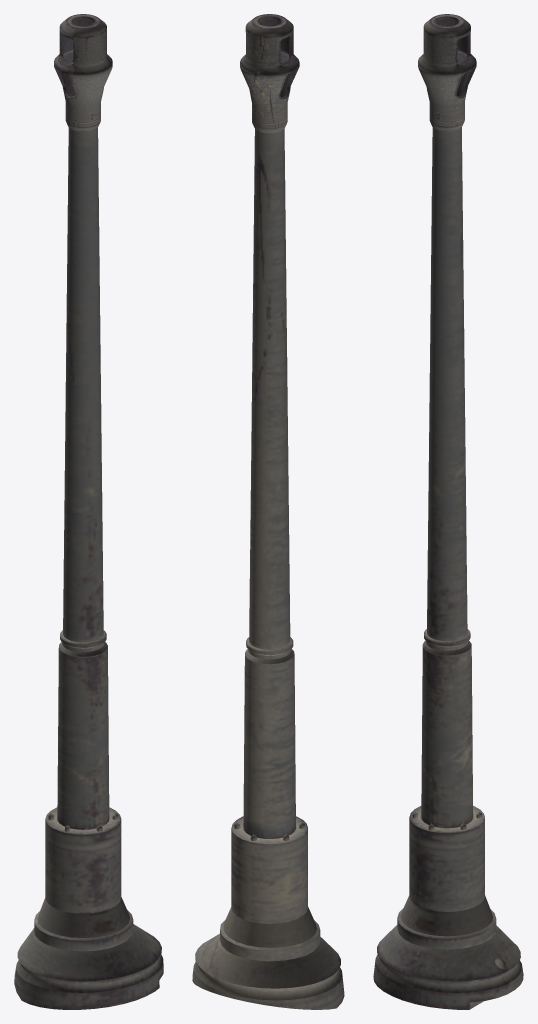
Rendered from Gun_04.glb.
The picture shows the model from 3 angles, left to right: view 1: azimuth 30°, elevation 25°; view 2: azimuth 150°, elevation 25°; view 3: azimuth 330°, elevation 25°; orthographic projection.
Visible parts, largest first — view 1: set_0_group_0; view 2: set_0_group_0; view 3: set_0_group_0.
Boxes of the visible parts, x1,y1,x2,y2 form: set_0_group_0: [14, 14, 163, 1009]; set_0_group_0: [192, 14, 344, 1009]; set_0_group_0: [373, 14, 523, 1009].
Bounding box in the file's own units: 0.7126 × 4.88 × 0.6135.
Materials: 1 (1 with a texture image).
